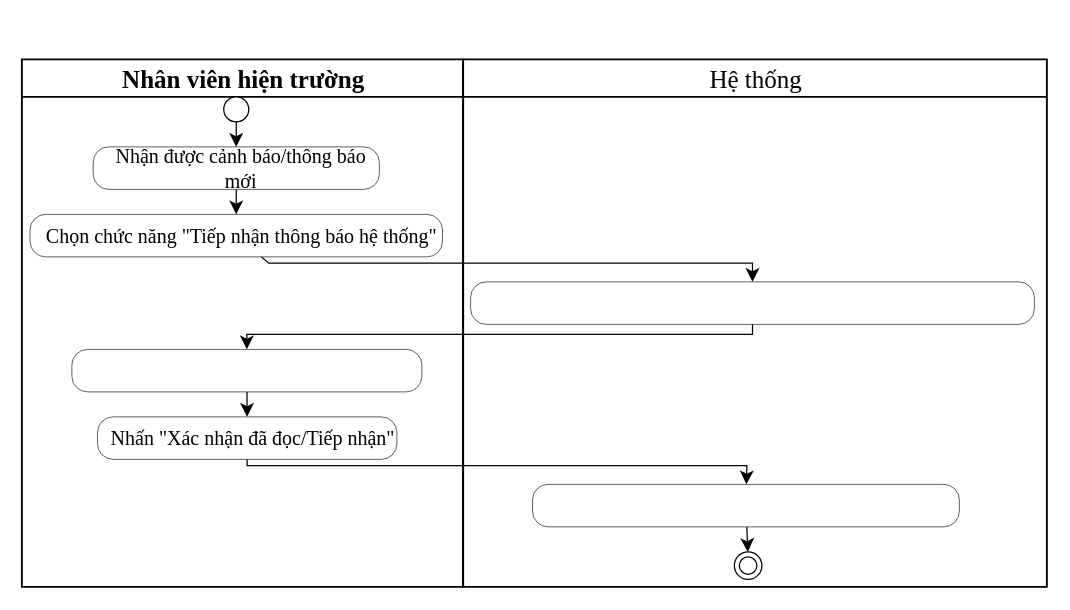
Some shapes in this 1070 by 610 pixel diagram are drawn without their labels. Each missing label, with the centre of its shape:
Cập nhật trạng thái thông báo thành "Đã tiếp nhận": [745,505]
Hiển thị nội dung chi tiết thông báo (vd: Phiếu phân công xử lý mới): [752,302]
Xem chi tiết nhiệm vụ và địa điểm sự cố: [246,370]
